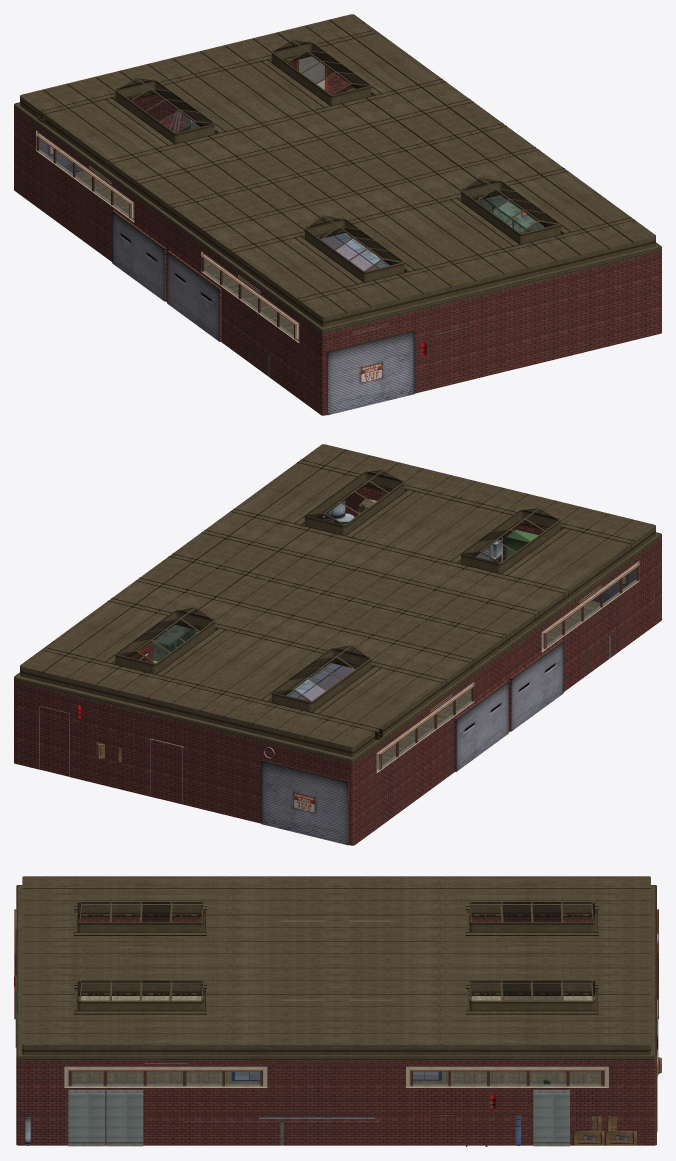
The model's file is Garage.FBX.
3 renders of one model, top to bottom at view 1: azimuth 30°, elevation 25°; view 2: azimuth 150°, elevation 25°; view 3: azimuth 270°, elevation 25°, orthographic. The views are drawn at different scales.
Parts seen in each view (by area): view 1: Garage, Glass; view 2: Garage, Glass; view 3: Garage, Glass.
Part boxes in pixels (<box>): Garage: <box>14,14,661,415</box>; Glass: <box>36,41,555,338</box>; Garage: <box>14,444,661,845</box>; Glass: <box>120,471,639,768</box>; Garage: <box>14,876,661,1146</box>; Glass: <box>69,902,604,1085</box>.
Size of the model in its own units: 3.39 by 1.08 by 5.35.
